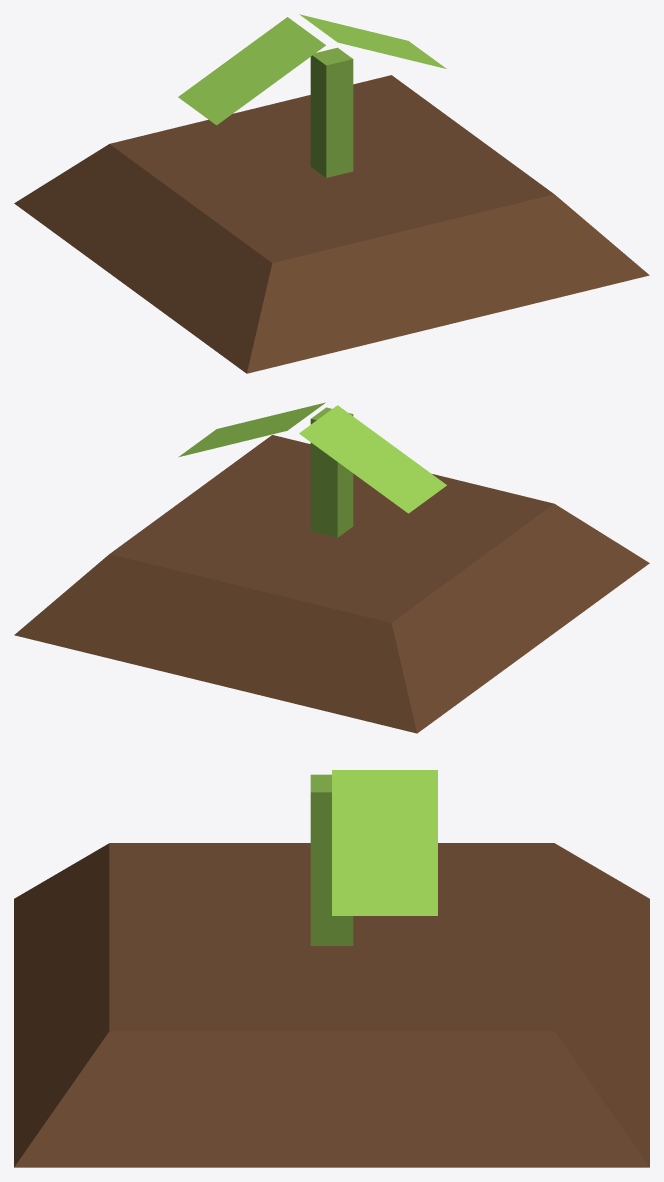
Rendered from carrot_1.obj.
3 views of the same model, one above another, from view 1: azimuth 30°, elevation 25°; view 2: azimuth 150°, elevation 25°; view 3: azimuth 270°, elevation 25° (orthographic). The views are drawn at different scales.
Visible parts, largest first — view 1: plant; view 2: plant; view 3: plant.
Boxes of the visible parts, bbox=[...] form: plant: bbox=[14, 14, 649, 373]; plant: bbox=[14, 402, 649, 733]; plant: bbox=[14, 770, 649, 1167].
Bounding box in the file's own units: 0.3 × 0.139 × 0.3.
